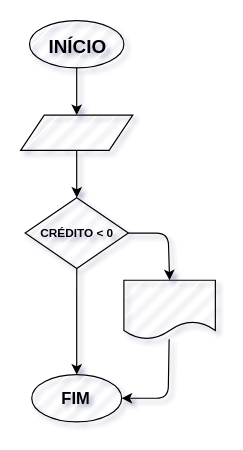
Image size: 243x450. Some labels were removed from this diagram. The centre of each missing label's shape, as x and y in pixels:
"TÊM CRÉTIDO": pixel 169 309
CRÉDITO: pixel 76 132
